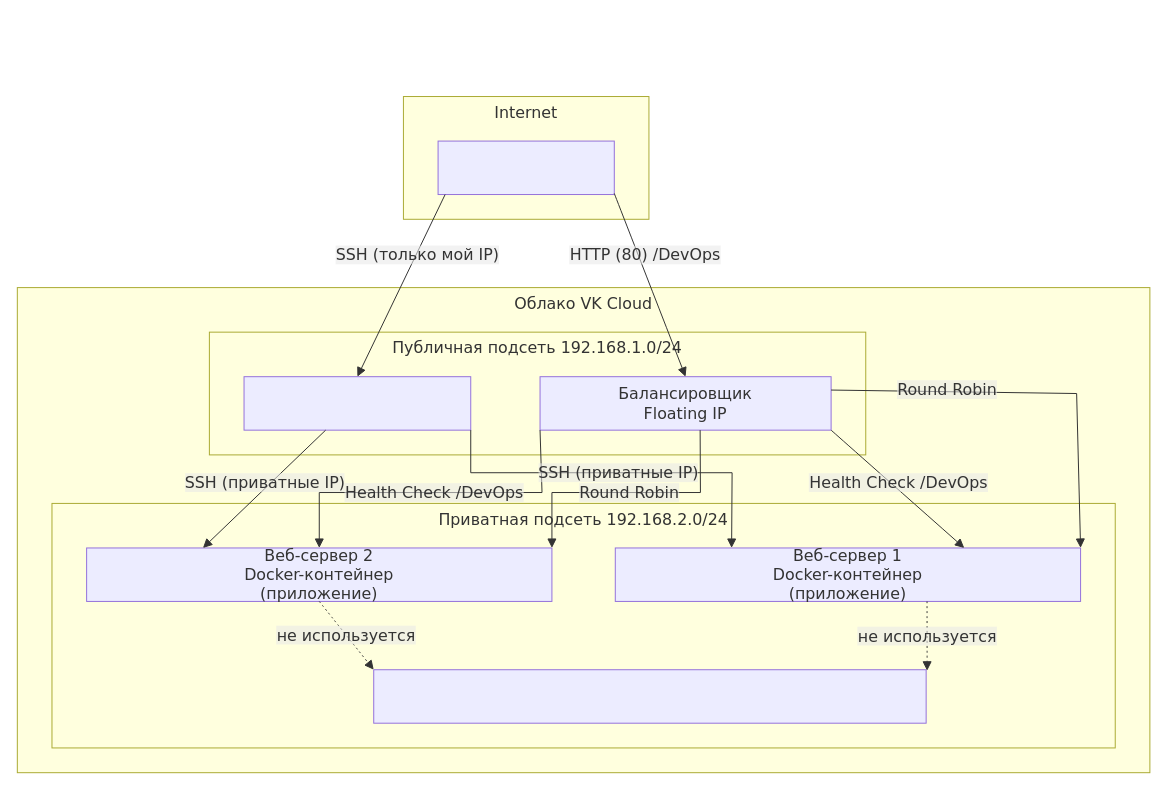
This 1167x790 diagram has some shape labels left out. The shapes that lost their labels are listed below. From the top down, each one's centre as x and y in pixels, then its label:
the point at 525,167: Пользователь
the point at 357,403: Бастион Floating IP
the point at 649,696: Управляемая PostgreSQL (не используется приложением)
